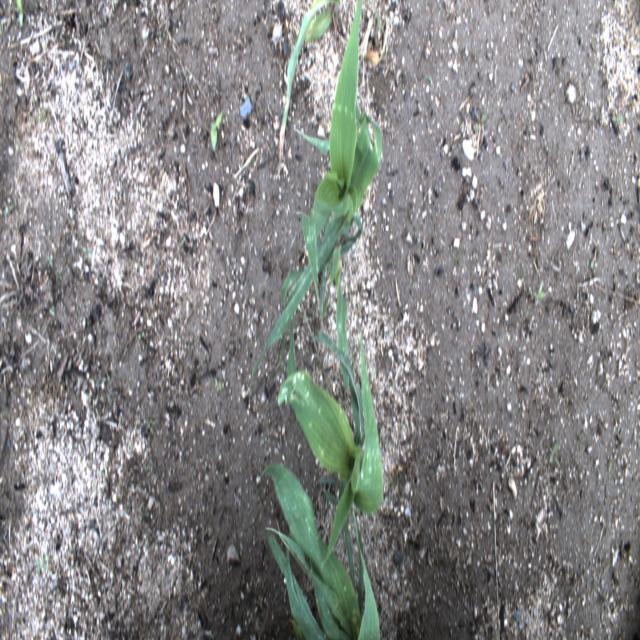crop: (247, 0, 382, 408), (277, 328, 382, 572), (260, 464, 380, 639), (278, 0, 340, 164)
weed: (369, 0, 389, 58), (23, 87, 46, 121), (210, 109, 222, 153), (532, 277, 546, 307), (548, 442, 560, 468), (474, 113, 488, 132), (36, 556, 49, 576), (16, 0, 23, 28), (82, 246, 93, 258), (214, 377, 222, 393), (8, 197, 16, 212), (585, 260, 594, 270), (56, 270, 63, 282), (612, 115, 624, 122), (46, 254, 53, 265)
